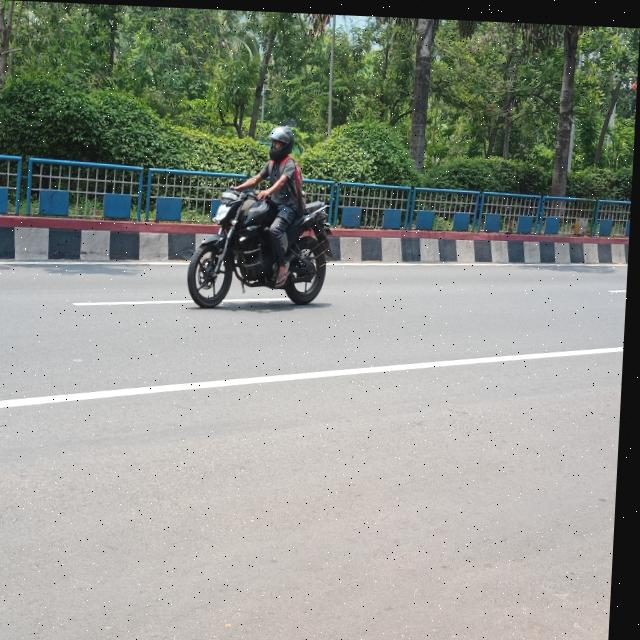car: (187, 184, 353, 310)
